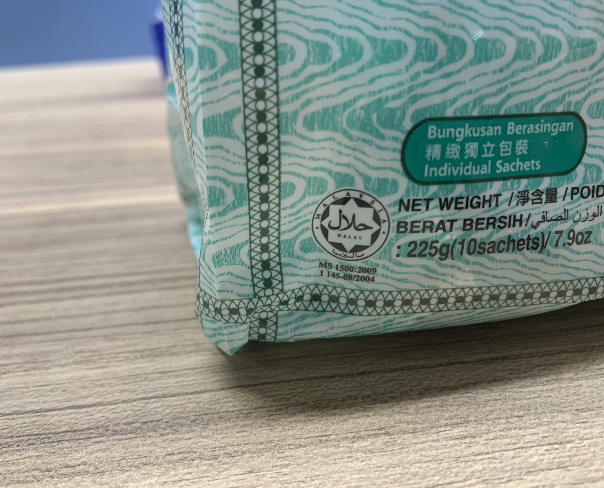halal: (323, 202, 381, 252)
